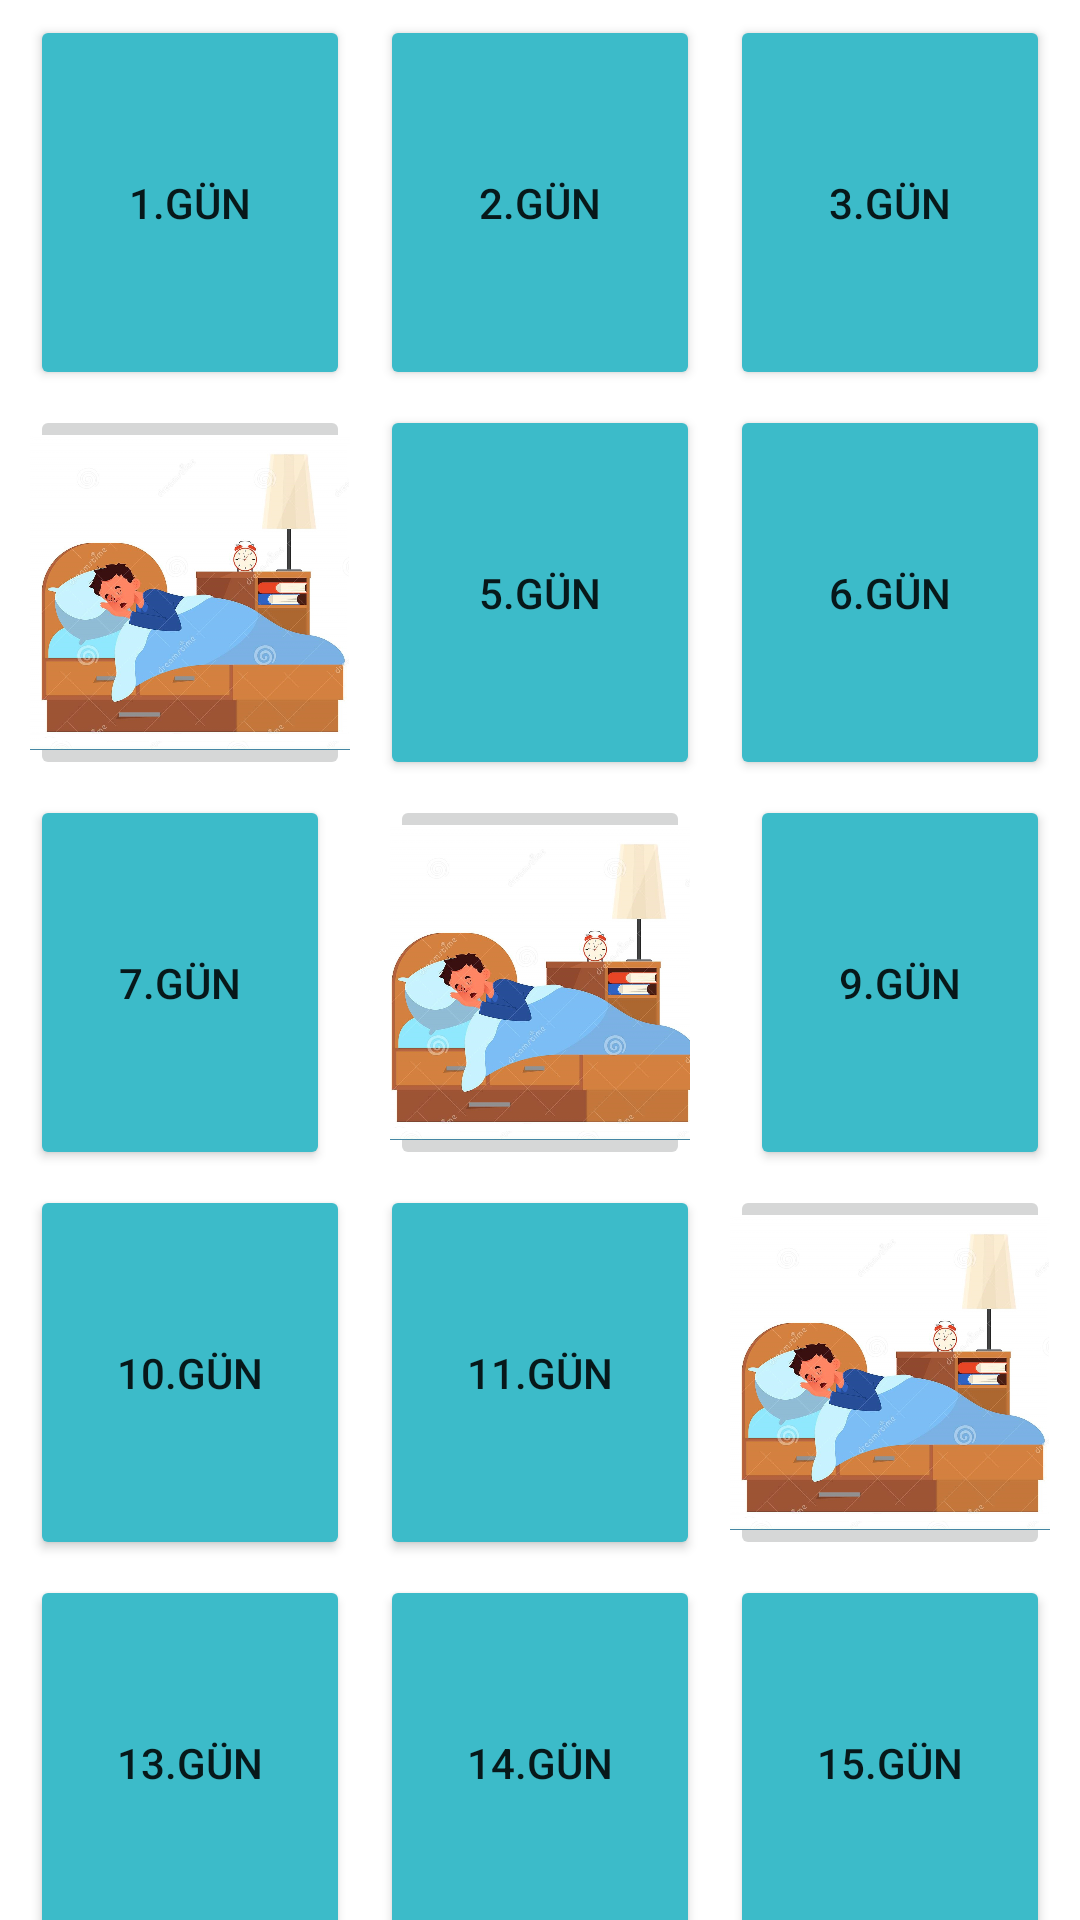

Icon bounding boxes for this 1080px×1920px phone screenshot, format [x1=x1, y1=y1, x2=x2, y2=y2]:
dinlenmegunu: [x1=30, y1=423, x2=350, y2=762], [x1=390, y1=813, x2=690, y2=1152], [x1=730, y1=1203, x2=1050, y2=1542]
